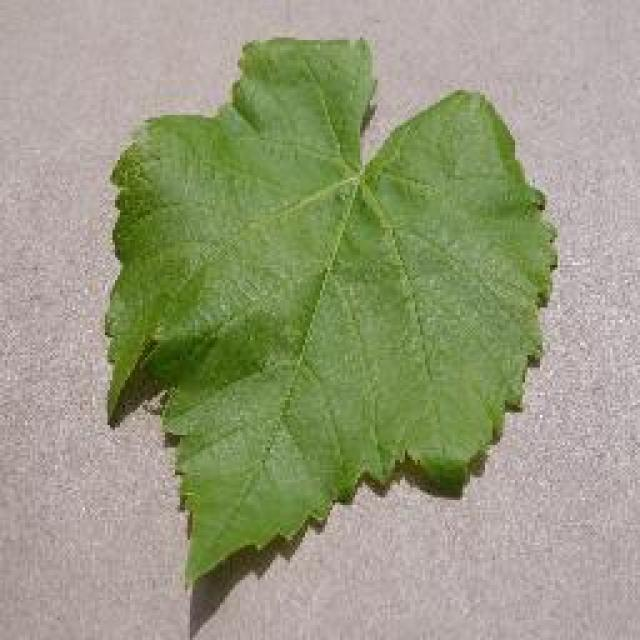Grape___healthy: (105, 38, 552, 580)
